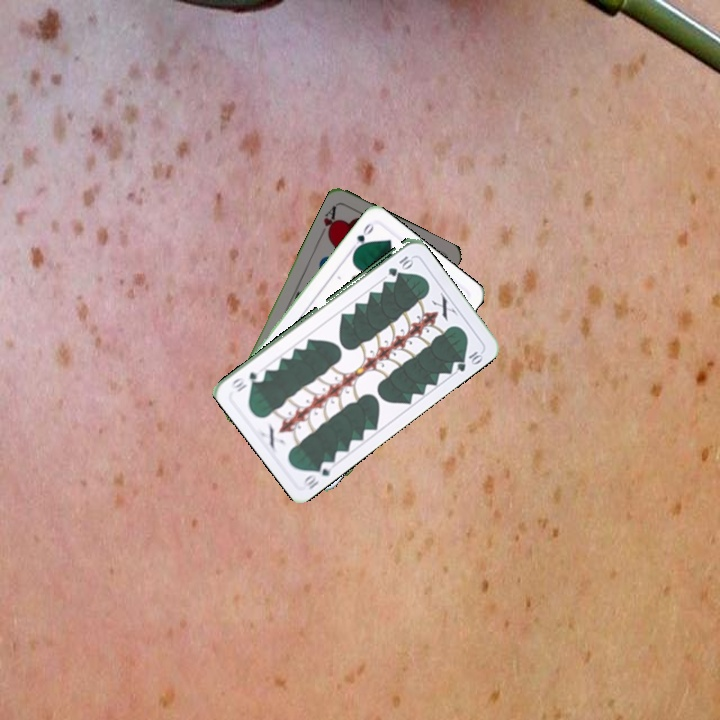G10: (300, 457, 337, 491), (384, 252, 415, 278)
GO: (346, 219, 377, 255)
HA: (316, 202, 340, 241)
